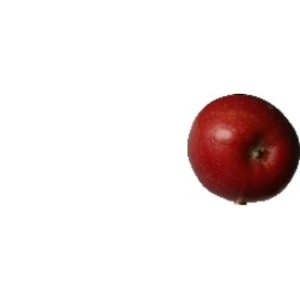maçã braeburn: (184, 92, 300, 199)
